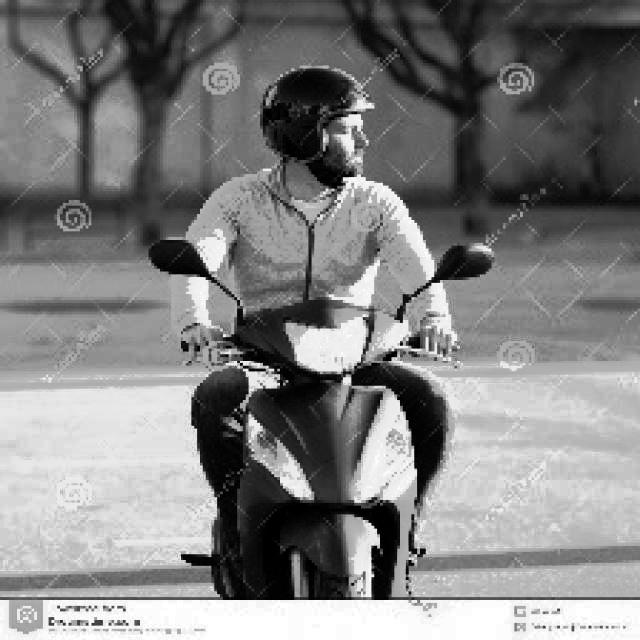Bike: (194, 294, 433, 596)
